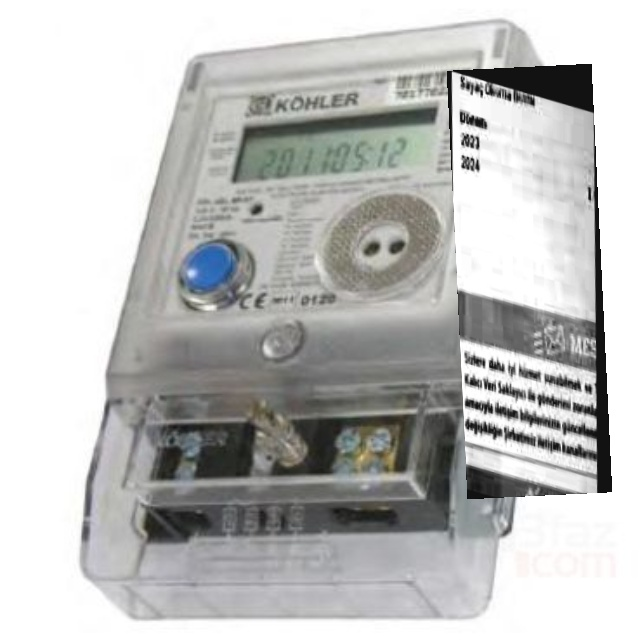electricity-bill: (446, 64, 611, 499)
